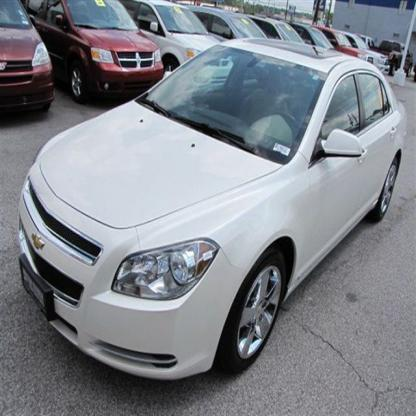Vehicle: (18, 39, 408, 382)
